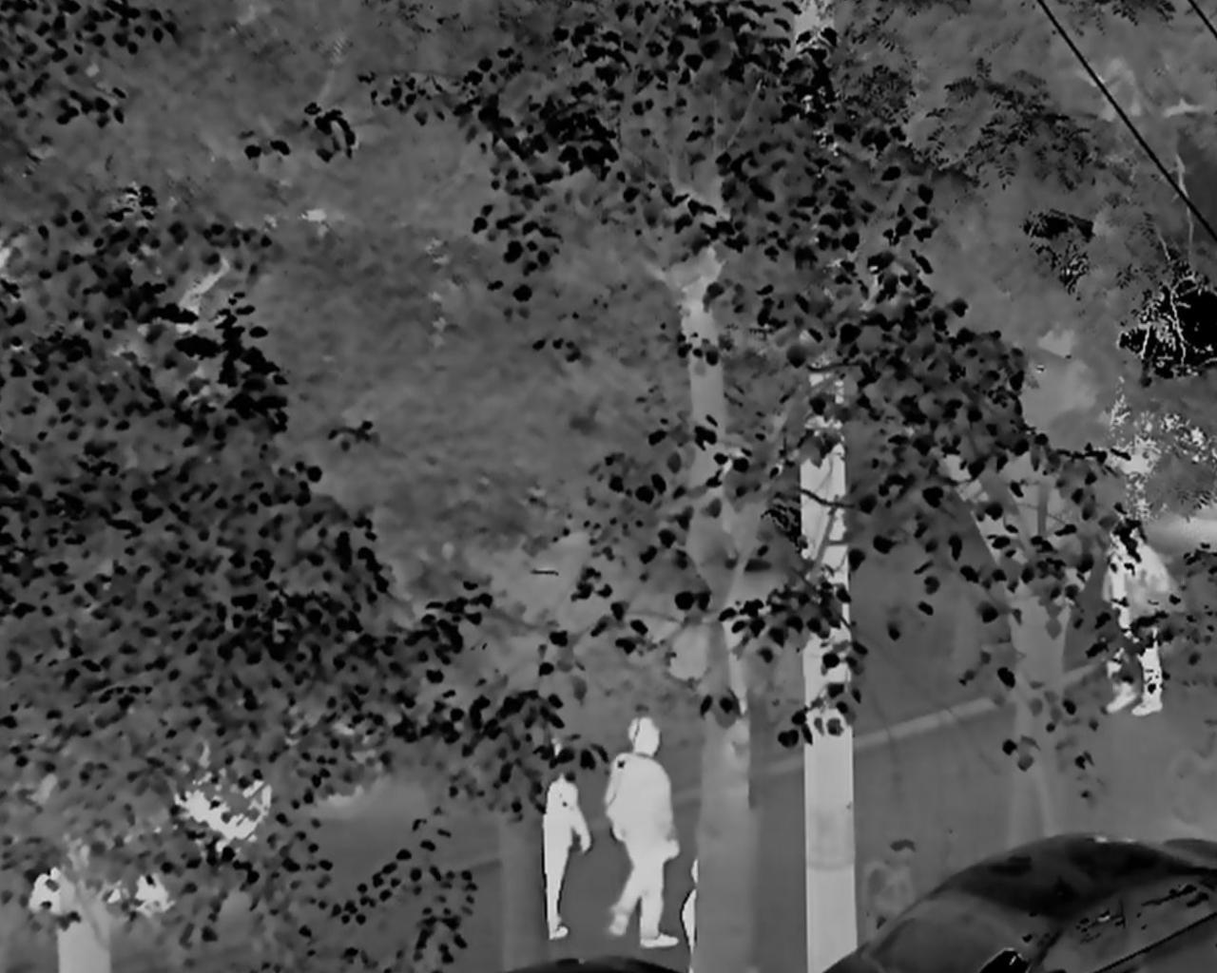person: (607, 709, 680, 953), (1086, 505, 1169, 717), (540, 736, 594, 947)
